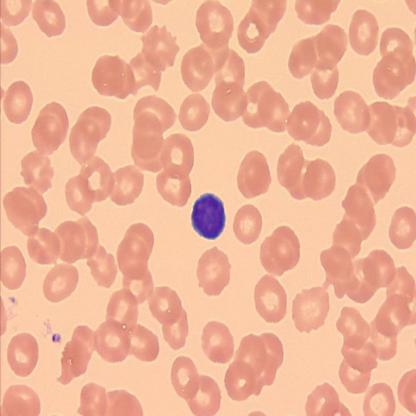Lymphocyte: (191, 192, 226, 241)
